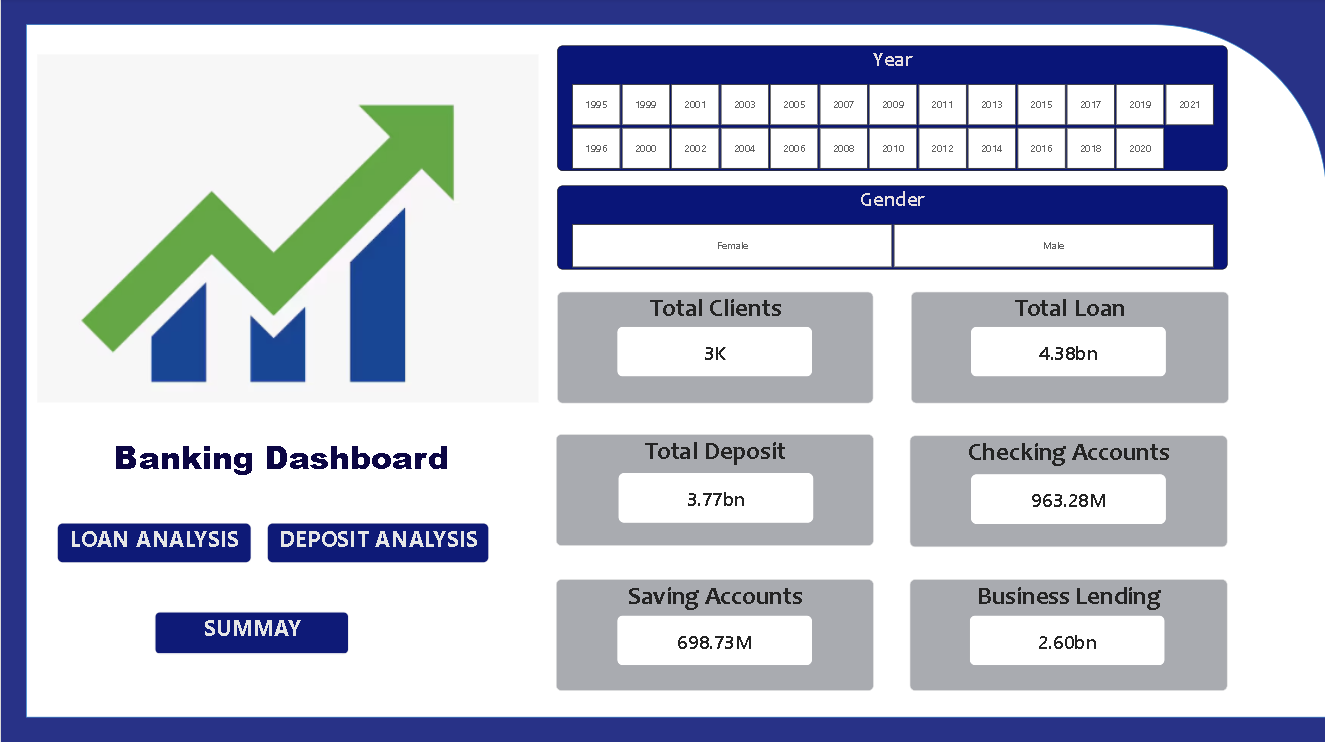

This screenshot's page, from the dashboard's own definition file:
{"tool":"powerbi","page":{"name":"Banking Dashboard","canvas":[1920,1080],"ordinal":0},"visuals":[{"type":"shape","box":[37,38.9,1883.3,1003.7],"z":500},{"type":"image","box":[51.9,68.5,725.9,529.6],"z":1000},{"type":"textbox","title":"Banking Dashboard","box":[51.9,631.5,707.4,79.6],"z":2000},{"type":"textbox","title":"LOAN ANALYSIS","box":[81.4,760.1,280.7,57.5],"z":3000},{"type":"textbox","title":"DEPOSIT ANALYSIS","box":[385.5,760.1,320.4,57.5],"z":4000},{"type":"textbox","title":"SUMMAY","box":[222.6,888.5,280.7,61.9],"z":5000},{"type":"textbox","title":"Total Clients","box":[805.6,425.9,457.5,161.3],"z":6000},{"type":"cardVisual","fields":{"Data":["CountNonNull(banking customer.ï»¿Client ID)"]},"box":[892.6,475.9,282.9,72.9],"z":7000},{"type":"textbox","title":"Total Loan","box":[1316.7,425.9,459.7,161.3],"z":8000},{"type":"cardVisual","fields":{"Data":["banking customer.Total Loan"]},"box":[1403.7,475.9,282.9,72.9],"z":9000},{"type":"textbox","title":"Total Deposit","box":[803.7,631.5,459.7,161.3],"z":10000},{"type":"cardVisual","fields":{"Data":["banking customer.Total Deposit"]},"box":[894.4,687,282.9,72.9],"z":11000},{"type":"textbox","title":"Checking Accounts","box":[1314.8,633.3,459.7,161.3],"z":12000},{"type":"cardVisual","fields":{"Data":["Sum(banking customer.Checking Accounts)"]},"box":[1403.7,688.9,282.9,72.9],"z":13000},{"type":"textbox","title":"Saving Accounts","box":[803.7,840.7,459.7,161.3],"z":14000},{"type":"cardVisual","fields":{"Data":["Sum(banking customer.Saving Accounts)"]},"box":[892.6,894.4,282.9,72.9],"z":15000},{"type":"textbox","title":"Business Lending","box":[1314.8,840.7,459.7,161.3],"z":16000},{"type":"cardVisual","fields":{"Data":["Sum(banking customer.Business Lending)"]},"box":[1401.9,894.4,282.9,72.9],"z":17000},{"type":"slicer","title":"Gender","fields":{"Values":["banking customer.Gender"]},"box":[805.6,272.2,970.2,121.5],"z":18000},{"type":"slicer","title":"Year","fields":{"Values":["banking customer.Year of Joining"]},"box":[805.6,68.5,970.2,181.2],"z":19000},{"type":"actionButton","box":[81.4,760.1,280.5,57.9],"z":20000},{"type":"actionButton","box":[387.3,760.1,318.5,57.9],"z":21000},{"type":"actionButton","box":[222.6,888.5,280.5,61.5],"z":22000}]}

Visuals, with their boxes in screenshot pixels (x1, y1, x2, y2), scaled from the page's 1920x1080 canvas onto the 1325x742 screenshot:
shape: detection(26, 27, 1324, 716)
image: detection(36, 47, 537, 411)
"Banking Dashboard" textbox: detection(36, 434, 524, 489)
"LOAN ANALYSIS" textbox: detection(56, 522, 250, 562)
"DEPOSIT ANALYSIS" textbox: detection(266, 522, 487, 562)
"SUMMAY" textbox: detection(154, 610, 347, 653)
"Total Clients" textbox: detection(556, 293, 872, 403)
cardVisual - CountNonNull(banking customer.ï»¿Client ID): detection(616, 327, 811, 377)
"Total Loan" textbox: detection(909, 293, 1226, 403)
cardVisual - banking customer.Total Loan: detection(969, 327, 1164, 377)
"Total Deposit" textbox: detection(555, 434, 872, 545)
cardVisual - banking customer.Total Deposit: detection(617, 472, 812, 522)
"Checking Accounts" textbox: detection(907, 435, 1225, 546)
cardVisual - Sum(banking customer.Checking Accounts): detection(969, 473, 1164, 523)
"Saving Accounts" textbox: detection(555, 578, 872, 688)
cardVisual - Sum(banking customer.Saving Accounts): detection(616, 614, 811, 665)
"Business Lending" textbox: detection(907, 578, 1225, 688)
cardVisual - Sum(banking customer.Business Lending): detection(967, 614, 1163, 665)
"Gender" slicer: detection(556, 187, 1225, 270)
"Year" slicer: detection(556, 47, 1225, 172)
actionButton: detection(56, 522, 250, 562)
actionButton: detection(267, 522, 487, 562)
actionButton: detection(154, 610, 347, 653)
